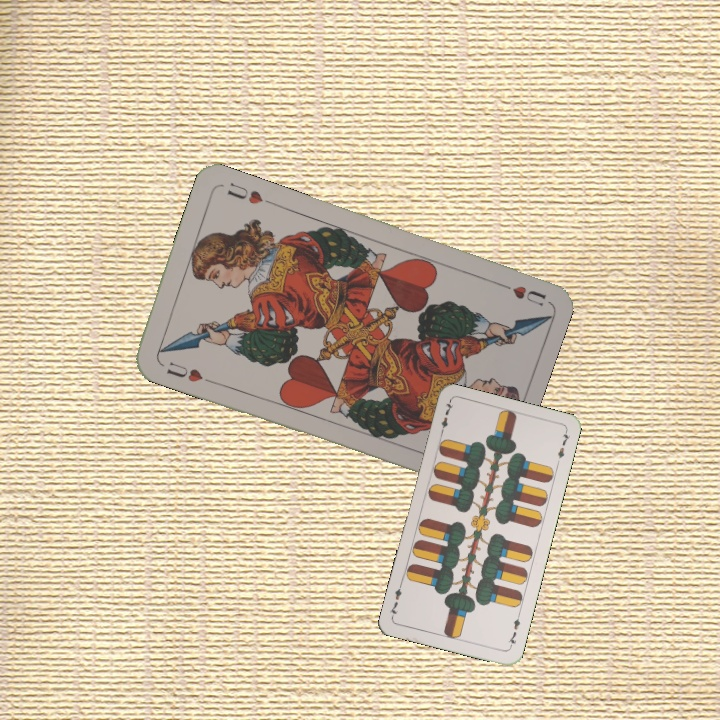E7: (436, 398, 456, 438), (504, 610, 523, 650)
HU: (492, 277, 549, 309), (162, 357, 205, 385)
